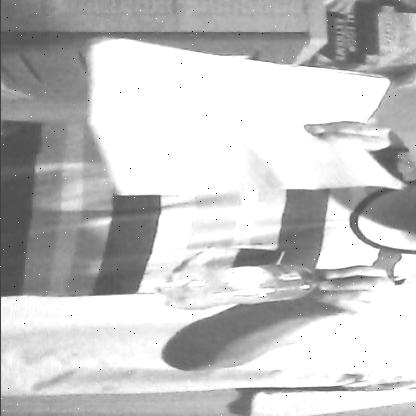Plastic Bottle: (154, 259, 358, 313)
